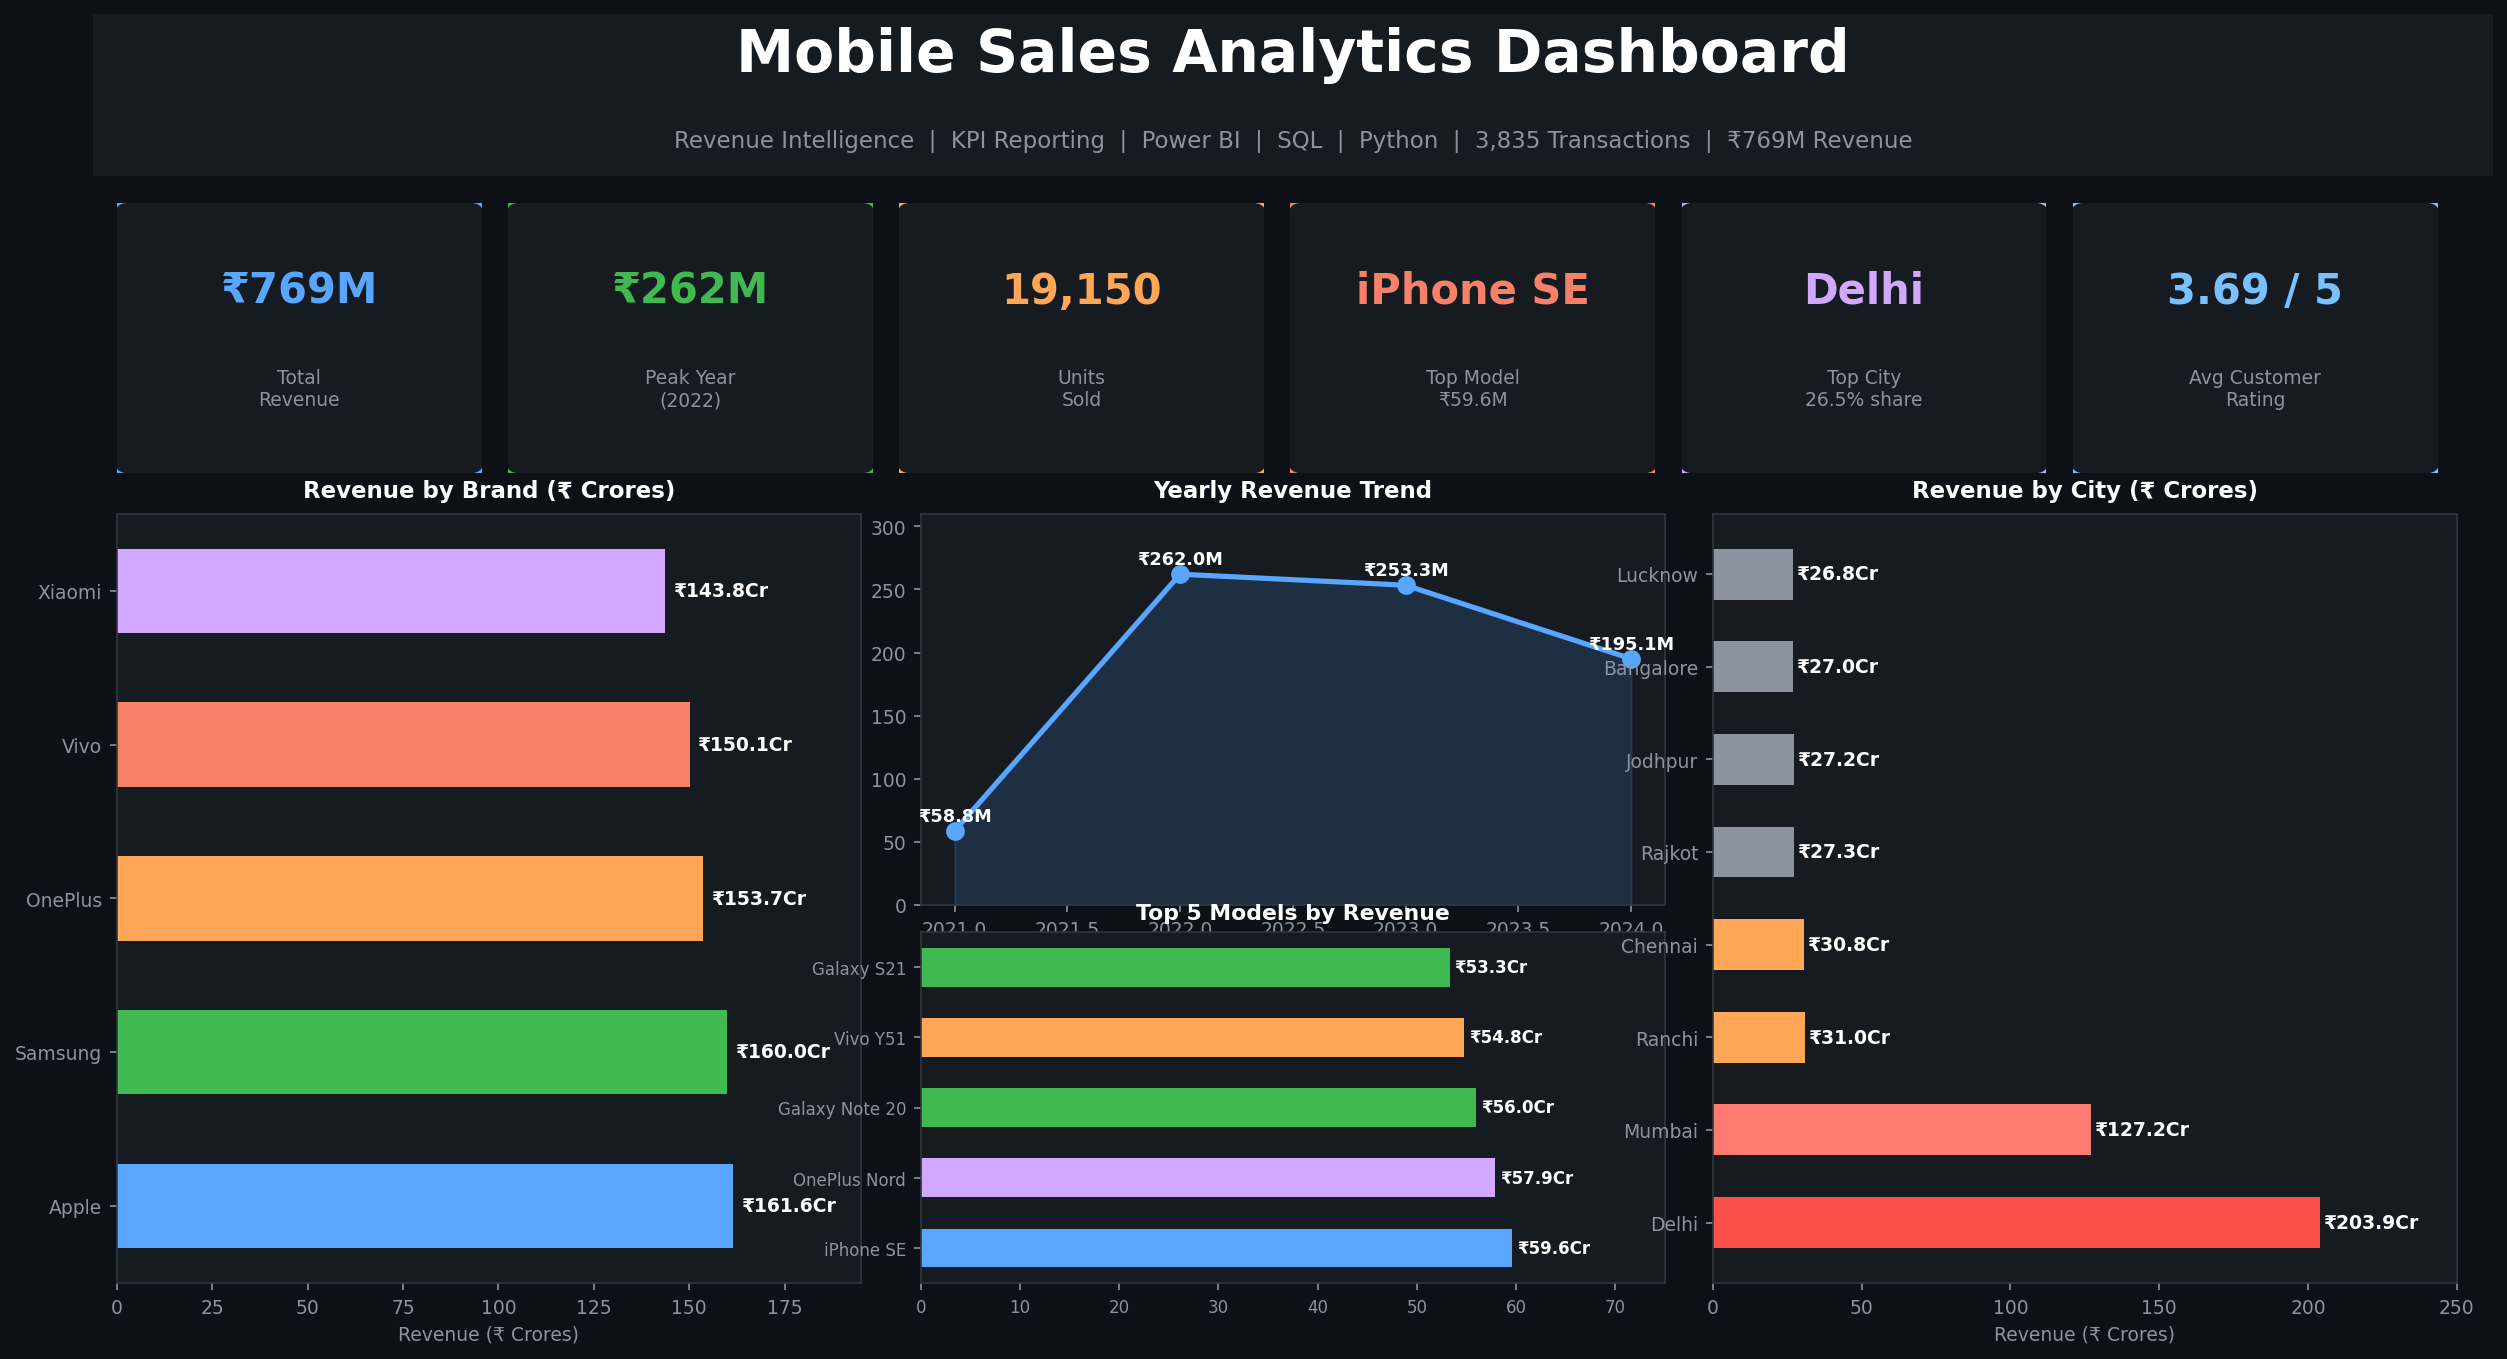

The page's visual inventory and layout, read from the dashboard file:
{"tool":"powerbi","page":{"name":"Page 1","canvas":[1280,720],"ordinal":0},"visuals":[{"type":"shape","box":[0,0,143.1,70.9],"z":0},{"type":"shape","box":[0,70.9,143.1,133.2],"z":1000},{"type":"shape","box":[0,204.1,143.1,515.9],"z":2000},{"type":"advancedSlicerVisual","fields":{"Values":["custom_calendar.Date.Variation.Date Hierarchy.Month"]},"box":[5.7,221.4,131.4,498.6],"z":3000},{"type":"cardVisual","fields":{"Data":["Sales_Data.Total_sales","Sales_Data.Total Quantity","Sales_Data.Transaction","Sales_Data.Average"]},"box":[143.1,87.9,1136.7,116.2],"z":4000},{"type":"shape","box":[294.8,0,143.1,87.9],"z":5000},{"type":"slicer","fields":{"Values":["Sales_Data.Payment Method"]},"box":[711.5,0,286.3,87.9],"z":6000},{"type":"slicer","fields":{"Values":["Sales_Data.Brand"]},"box":[997.8,0,282,87.9],"z":7000},{"type":"slicer","fields":{"Values":["Sales_Data.Mobile Model"]},"box":[438,0,274,88],"z":8000},{"type":"shape","box":[151.7,0,143.1,87.9],"z":9000},{"type":"textbox","box":[151.7,0,143.1,87.9],"z":10000},{"type":"map","fields":{"Category":["Sales_Data.City"],"Size":["Sales_Data.Total_sales"]},"box":[150,202.9,352.9,355.7],"z":11000},{"type":"lineChart","fields":{"Category":["custom_calendar.Date.Variation.Date Hierarchy.Month"],"Y":["Sales_Data.Total Quantity"]},"box":[502.9,205.7,777.1,164.3],"z":12000},{"type":"funnel","title":"Ratings by Rating Status","fields":{"Category":["Sales_Data.Rating Status"],"Y":["Sum(Sales_Data.Customer Ratings)"]},"box":[501.4,370,390,188.6],"z":13000},{"type":"pieChart","fields":{"Category":["Sales_Data.Payment Method"],"Y":["Sales_Data.Transaction"]},"box":[891.5,369.9,388.3,188.5],"z":14000},{"type":"clusteredBarChart","fields":{"Y":["Sales_Data.Total_sales"],"Category":["Sales_Data.Mobile Model"]},"box":[502.3,557.7,389.7,162.9],"z":15000},{"type":"areaChart","fields":{"Y":["Sales_Data.Total_sales"],"Category":["custom_calendar.Day Name"]},"box":[892,557.7,388,161.3],"z":16000},{"type":"tableEx","fields":{"Values":["Sales_Data.Brand","Sales_Data.Total_sales","Sales_Data.Total Quantity","Sales_Data.Transaction"]},"box":[150,559,352,161],"z":17000}]}

Visuals, with their boxes on the page's 1280x720 design canvas (x1, y1, x2, y2). These are canvas units, not pixel positions in the 2507x1359 screenshot, which may show the page scaled, cropped or inside an application window:
shape: BBox(0, 0, 143, 71)
shape: BBox(0, 71, 143, 204)
shape: BBox(0, 204, 143, 720)
advancedSlicerVisual - custom_calendar.Date.Variation.Date Hierarchy.Month: BBox(6, 221, 137, 720)
cardVisual - Sales_Data.Total_sales x Sales_Data.Total Quantity: BBox(143, 88, 1280, 204)
shape: BBox(295, 0, 438, 88)
slicer - Sales_Data.Payment Method: BBox(712, 0, 998, 88)
slicer - Sales_Data.Brand: BBox(998, 0, 1280, 88)
slicer - Sales_Data.Mobile Model: BBox(438, 0, 712, 88)
shape: BBox(152, 0, 295, 88)
textbox: BBox(152, 0, 295, 88)
map - Sales_Data.City x Sales_Data.Total_sales: BBox(150, 203, 503, 559)
lineChart - custom_calendar.Date.Variation.Date Hierarchy.Month x Sales_Data.Total Quantity: BBox(503, 206, 1280, 370)
"Ratings by Rating Status" funnel: BBox(501, 370, 891, 559)
pieChart - Sales_Data.Payment Method x Sales_Data.Transaction: BBox(892, 370, 1280, 558)
clusteredBarChart - Sales_Data.Total_sales x Sales_Data.Mobile Model: BBox(502, 558, 892, 721)
areaChart - Sales_Data.Total_sales x custom_calendar.Day Name: BBox(892, 558, 1280, 719)
tableEx - Sales_Data.Brand x Sales_Data.Total_sales: BBox(150, 559, 502, 720)
